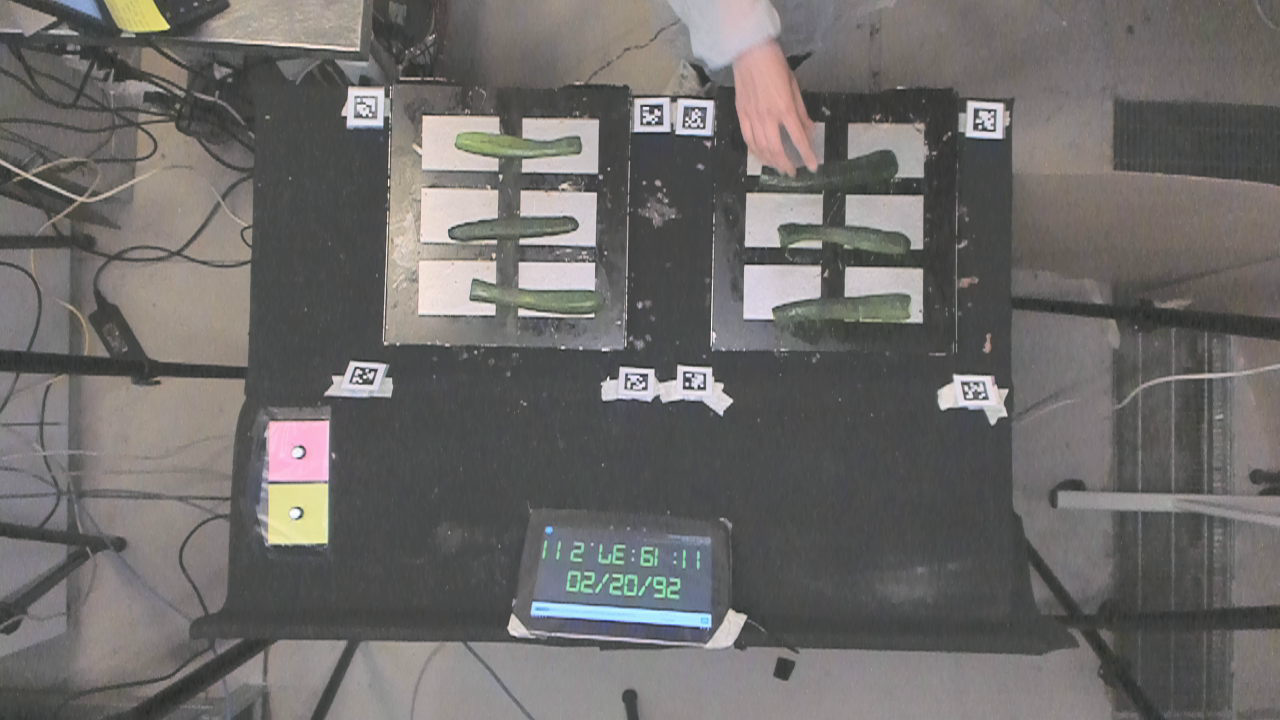marker: (267, 420, 329, 481)
zucchini: (755, 147, 899, 196), (457, 271, 606, 314), (441, 202, 581, 246), (764, 288, 914, 328), (777, 218, 915, 261), (452, 121, 584, 163)
